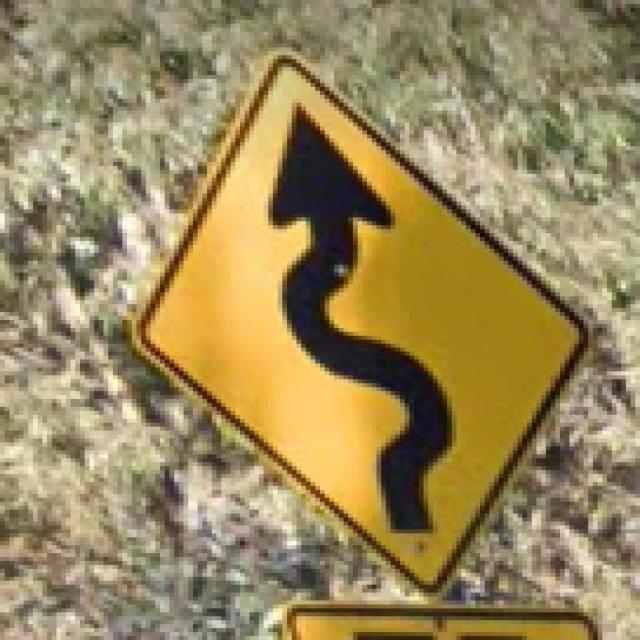Banyak Tikungan Pertama Kanan: (118, 39, 592, 605)
